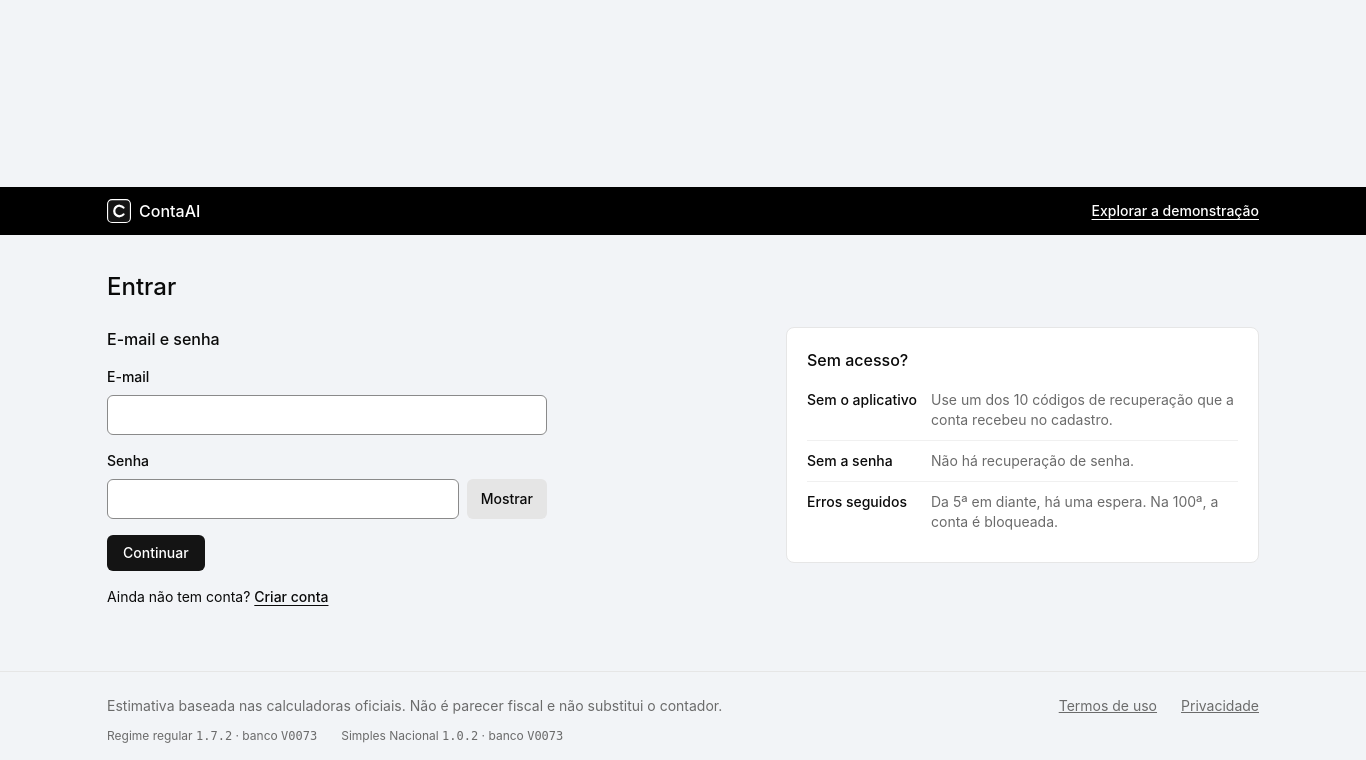
Test: Entrar, passo 1: e-mail e senha › API fora do ar: a frase da rede
(page scrolled)
Type "pessoa@exemplo.test" into the field labelled "E-mail" at point(327, 415), box [107,395,547,435]
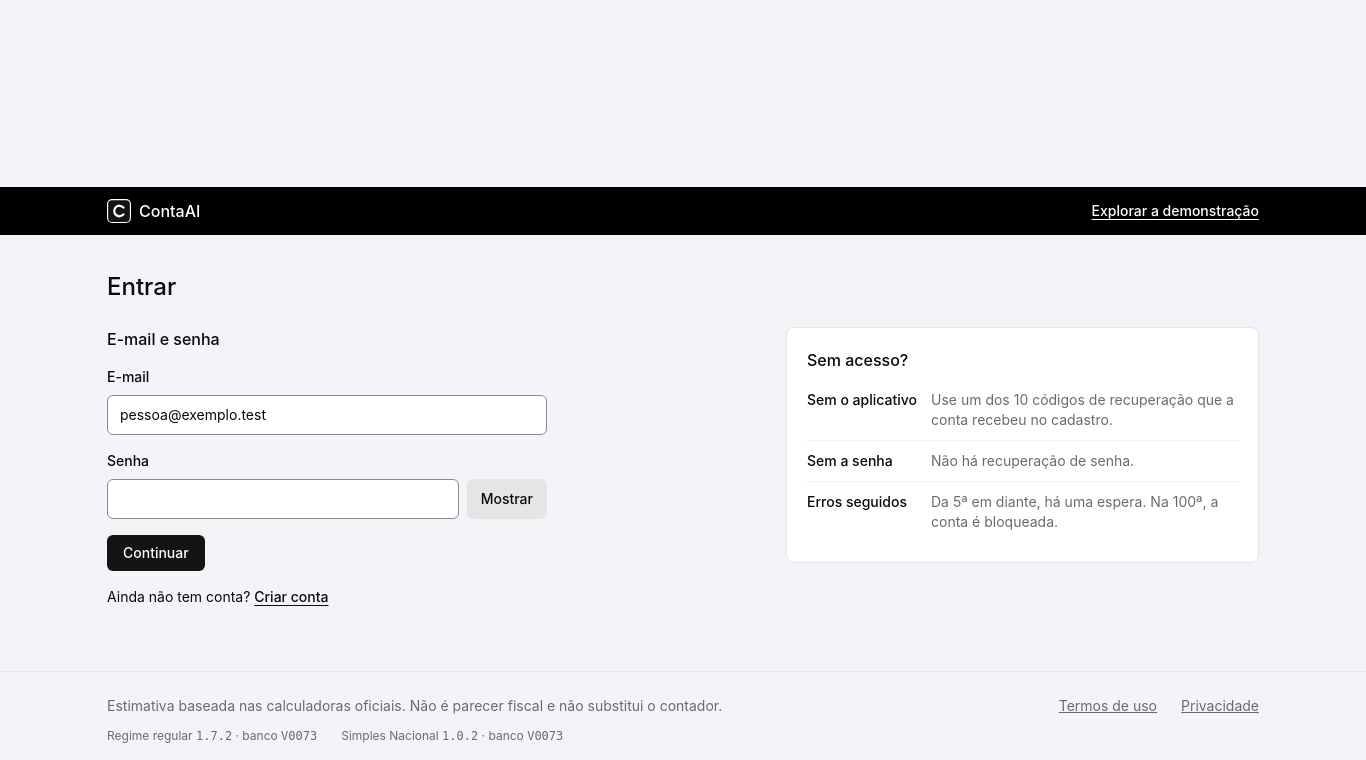
Type "a senha da pessoa" into the password field labelled "Senha" at point(283, 499), box [107,479,459,519]
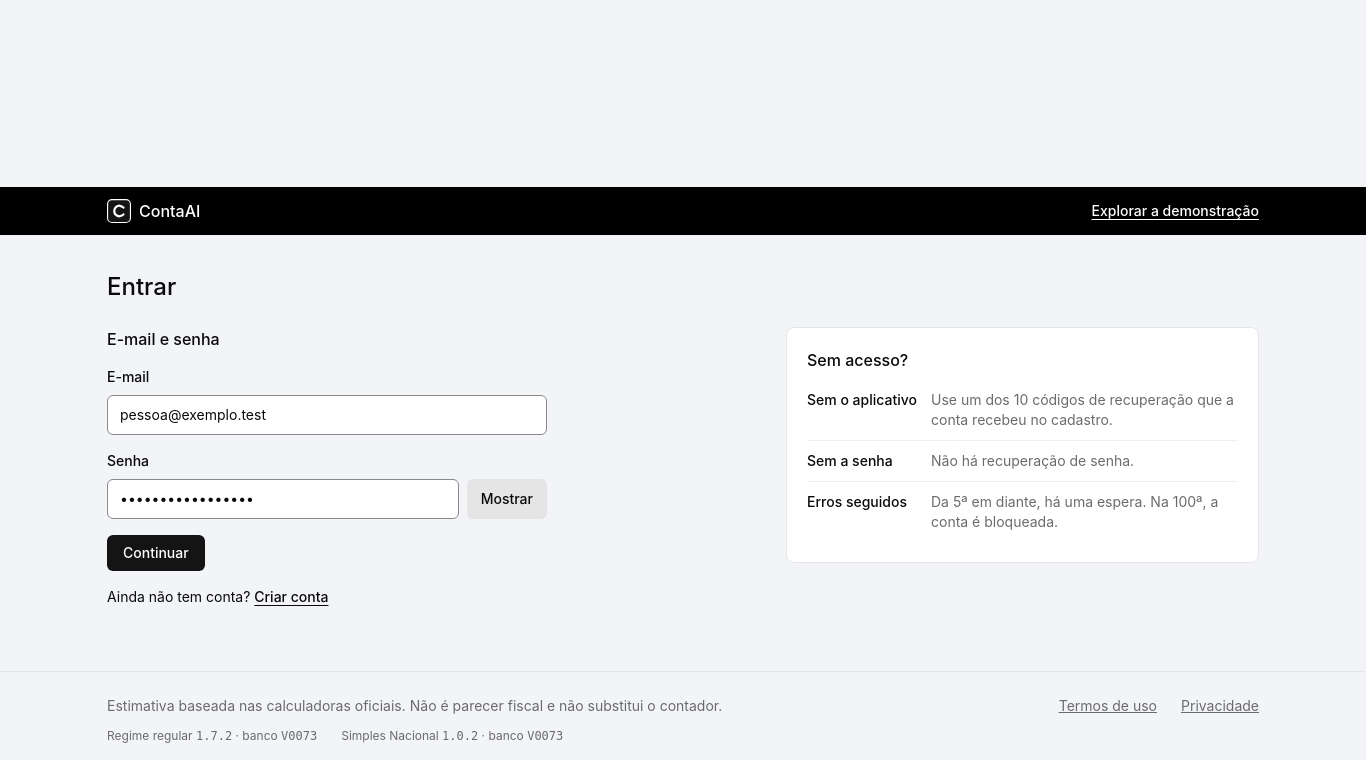
Click the button "Continuar" at point(156, 553), box [107,535,205,571]
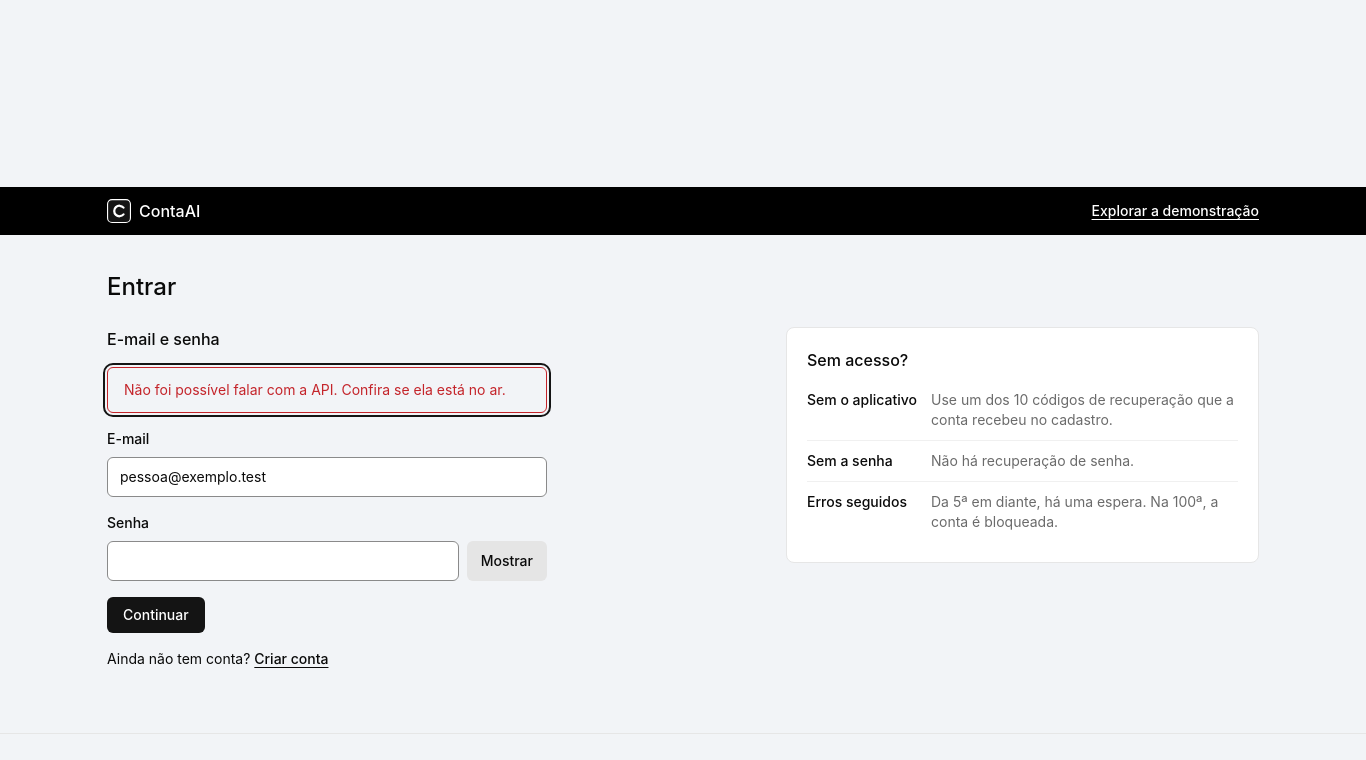
Expected: the message shows "Não foi possível falar com a API", [124,381,506,398]
